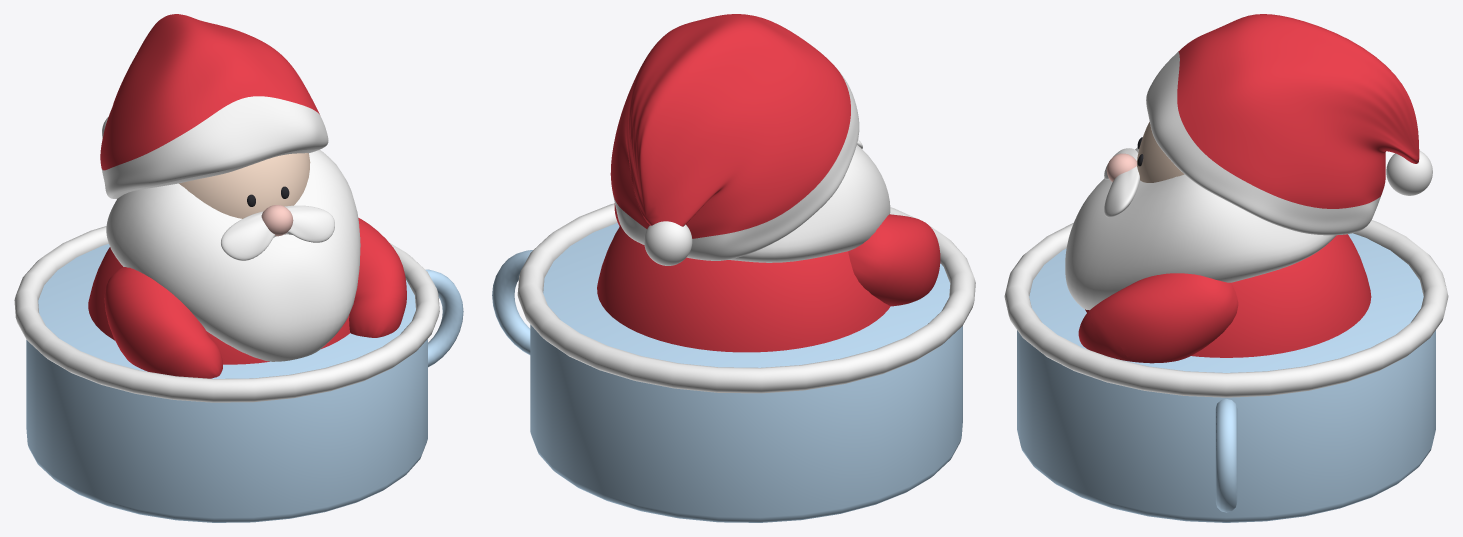
The model's file is teacup.glb.
3 renders of one model, left to right at view 1: azimuth 30°, elevation 25°; view 2: azimuth 150°, elevation 25°; view 3: azimuth 270°, elevation 25°, orthographic. The views are drawn at different scales.
Visible parts, largest first — view 1: teacup_sky, teacup_white, teacup_red, teacup_skin, teacup_nose; view 2: teacup_sky, teacup_red, teacup_white; view 3: teacup_sky, teacup_red, teacup_white, teacup_skin, teacup_nose.
Part boxes in pixels (left/top/right/bottom): teacup_sky: left=26, top=244, right=463, bottom=522; teacup_white: left=14, top=96, right=439, bottom=402; teacup_red: left=88, top=14, right=406, bottom=378; teacup_skin: left=179, top=153, right=310, bottom=218; teacup_nose: left=261, top=205, right=293, bottom=236; teacup_sky: left=492, top=223, right=962, bottom=522; teacup_red: left=597, top=14, right=940, bottom=352; teacup_white: left=517, top=70, right=975, bottom=393; teacup_sky: left=1017, top=233, right=1435, bottom=522; teacup_red: left=1078, top=14, right=1419, bottom=363; teacup_white: left=1004, top=51, right=1448, bottom=397; teacup_skin: left=1137, top=122, right=1184, bottom=182; teacup_nose: left=1106, top=153, right=1136, bottom=181.
Size of the model in its own units: 3.25 by 2.96 by 2.86.
